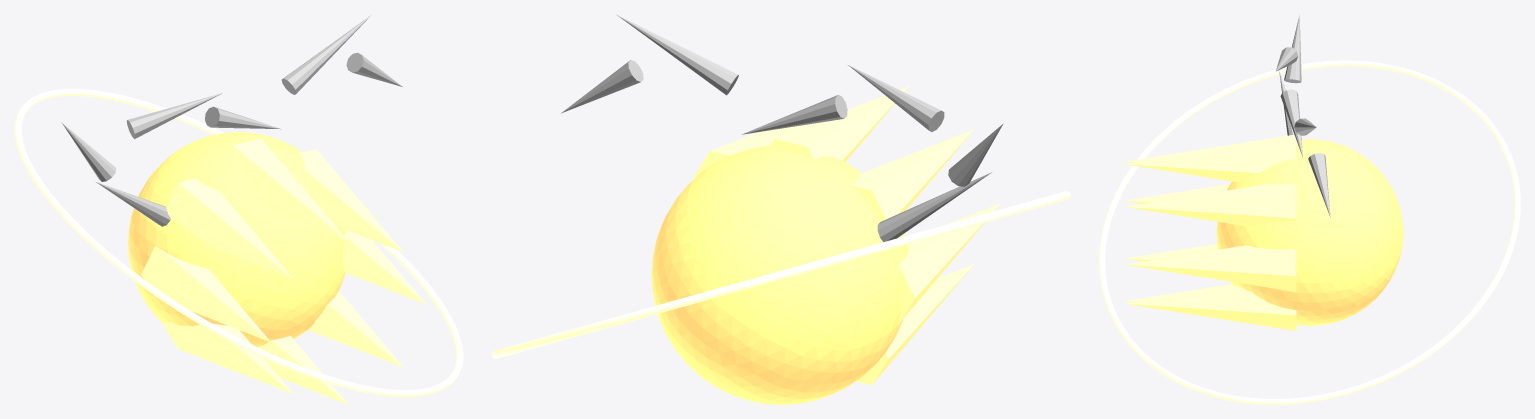
File: origin.glb
3 views of the same model, side by side, from view 1: azimuth 30°, elevation 25°; view 2: azimuth 150°, elevation 25°; view 3: azimuth 270°, elevation 25° (orthographic). The views are drawn at different scales.
Visible parts, largest first — view 1: origin_part_000, origin_part_010, origin_part_009, origin_part_004, origin_part_005, origin_part_003, origin_part_002, origin_part_006, origin_part_008, origin_part_001, origin_part_007; view 2: origin_part_000, origin_part_009, origin_part_010, origin_part_004, origin_part_003, origin_part_005, origin_part_006, origin_part_002; view 3: origin_part_000, origin_part_010, origin_part_001, origin_part_002, origin_part_003, origin_part_008, origin_part_009, origin_part_005, origin_part_006, origin_part_004.
Boxes of the visible parts, box(x1,y1,x2,y2) form: origin_part_000: box(128, 132, 346, 347); origin_part_010: box(14, 88, 463, 397); origin_part_009: box(62, 15, 402, 226); origin_part_004: box(166, 178, 293, 279); origin_part_005: box(141, 246, 270, 342); origin_part_003: box(227, 138, 348, 241); origin_part_002: box(299, 149, 403, 252); origin_part_006: box(164, 321, 293, 394); origin_part_008: box(308, 291, 403, 367); origin_part_001: box(341, 230, 426, 304); origin_part_007: box(258, 336, 348, 404); origin_part_000: box(651, 146, 908, 404); origin_part_009: box(561, 14, 1003, 241); origin_part_010: box(492, 191, 1070, 358); origin_part_004: box(852, 129, 974, 221); origin_part_003: box(768, 85, 909, 161); origin_part_005: box(898, 203, 1000, 323); origin_part_006: box(856, 264, 974, 384); origin_part_002: box(694, 97, 845, 178); origin_part_000: box(1216, 139, 1403, 325); origin_part_010: box(1099, 60, 1520, 404); origin_part_001: box(1125, 245, 1296, 291); origin_part_002: box(1125, 183, 1296, 226); origin_part_003: box(1125, 137, 1296, 182); origin_part_008: box(1125, 286, 1296, 330); origin_part_009: box(1276, 15, 1330, 217); origin_part_005: box(1125, 184, 1230, 203); origin_part_006: box(1125, 244, 1218, 261); origin_part_004: box(1125, 134, 1295, 162).
Size of the model in its own units: 2.45 by 1.8 by 2.65.
